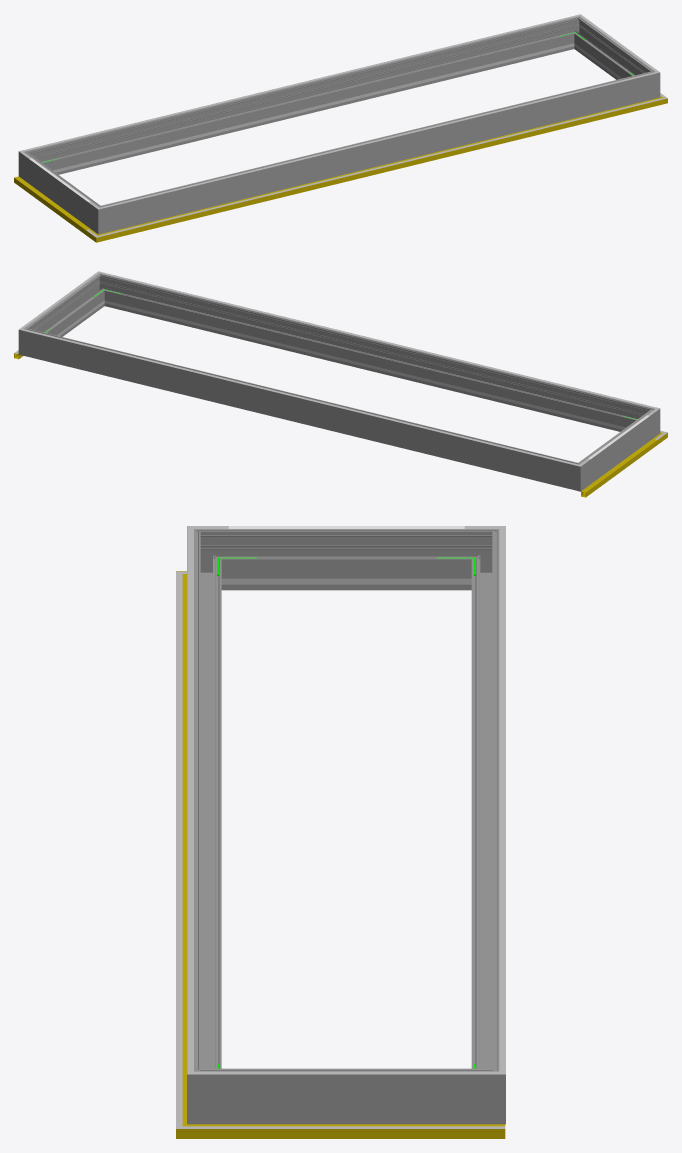
3 renders of one model, top to bottom at view 1: azimuth 30°, elevation 25°; view 2: azimuth 150°, elevation 25°; view 3: azimuth 270°, elevation 25°, orthographic. The views are drawn at different scales.
Parts seen in each view (by area): view 1: 3DGeom-276, 3DGeom-298, 3DGeom-11, 3DGeom-297, 3DGeom-244, 3DGeom-268, 3DGeom-20, 3DGeom-304, 3DGeom-316, 3DGeom-270, 3DGeom-6, 3DGeom-290 (+2 smaller); view 2: 3DGeom-298, 3DGeom-276, 3DGeom-297, 3DGeom-239, 3DGeom-268, 3DGeom-304, 3DGeom-316, 3DGeom-278, 3DGeom-6, 3DGeom-284, 3DGeom-290, 3DGeom-270; view 3: 3DGeom-276, 3DGeom-298, 3DGeom-268, 3DGeom-297, 3DGeom-16, 3DGeom-20, 3DGeom-304, 3DGeom-316, 3DGeom-11, 3DGeom-290, 3DGeom-284, 3DGeom-270 (+3 smaller).
Part boxes in pixels (left/top/right/bottom): 3DGeom-276: left=38, top=20, right=571, bottom=174; 3DGeom-298: left=113, top=74, right=642, bottom=229; 3DGeom-11: left=111, top=100, right=649, bottom=238; 3DGeom-297: left=576, top=22, right=646, bottom=79; 3DGeom-244: left=59, top=47, right=556, bottom=171; 3DGeom-268: left=29, top=157, right=93, bottom=226; 3DGeom-20: left=113, top=101, right=649, bottom=233; 3DGeom-304: left=37, top=18, right=563, bottom=147; 3DGeom-316: left=115, top=75, right=641, bottom=205; 3DGeom-270: left=88, top=200, right=116, bottom=234; 3DGeom-6: left=14, top=176, right=90, bottom=234; 3DGeom-290: left=639, top=66, right=660, bottom=101; 3DGeom-298: left=107, top=277, right=640, bottom=431; 3DGeom-276: left=36, top=331, right=565, bottom=487; 3DGeom-297: left=32, top=279, right=102, bottom=336; 3DGeom-239: left=122, top=304, right=619, bottom=428; 3DGeom-268: left=585, top=414, right=649, bottom=483; 3DGeom-304: left=37, top=333, right=563, bottom=462; 3DGeom-316: left=115, top=275, right=641, bottom=405; 3DGeom-278: left=562, top=458, right=590, bottom=491; 3DGeom-6: left=581, top=439, right=657, bottom=497; 3DGeom-284: left=18, top=323, right=39, bottom=358; 3DGeom-290: left=91, top=273, right=114, bottom=306; 3DGeom-270: left=634, top=405, right=660, bottom=440; 3DGeom-276: left=471, top=543, right=499, bottom=1068; 3DGeom-298: left=187, top=543, right=221, bottom=1068; 3DGeom-268: left=228, top=529, right=464, bottom=590; 3DGeom-297: left=228, top=1068, right=464, bottom=1124; 3DGeom-16: left=217, top=1124, right=505, bottom=1138; 3DGeom-20: left=176, top=588, right=182, bottom=1111; 3DGeom-304: left=499, top=543, right=505, bottom=1056; 3DGeom-316: left=187, top=543, right=193, bottom=1056; 3DGeom-11: left=182, top=588, right=186, bottom=1111; 3DGeom-290: left=187, top=1057, right=228, bottom=1124; 3DGeom-284: left=464, top=1057, right=505, bottom=1124; 3DGeom-270: left=187, top=526, right=228, bottom=590.
Size of the model in its own units: 4.88 by 0.2434 by 1.22.
